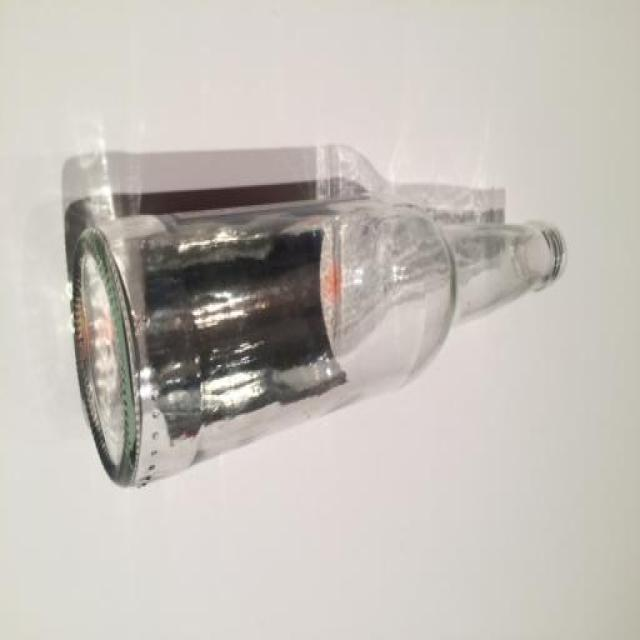glass: (0, 138, 590, 494)
